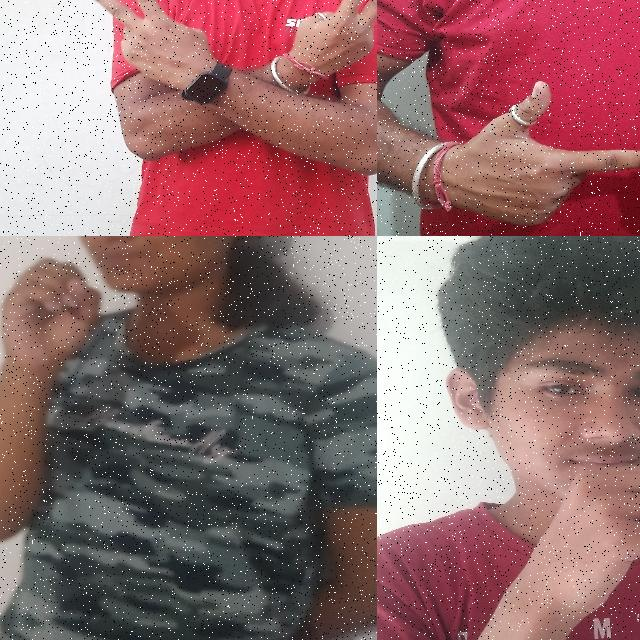Fist Mouth: (435, 237, 640, 589), (0, 236, 281, 392)
Five Fathers: (434, 70, 640, 236)
Reversed Victory: (72, 0, 220, 93), (280, 0, 377, 83)
